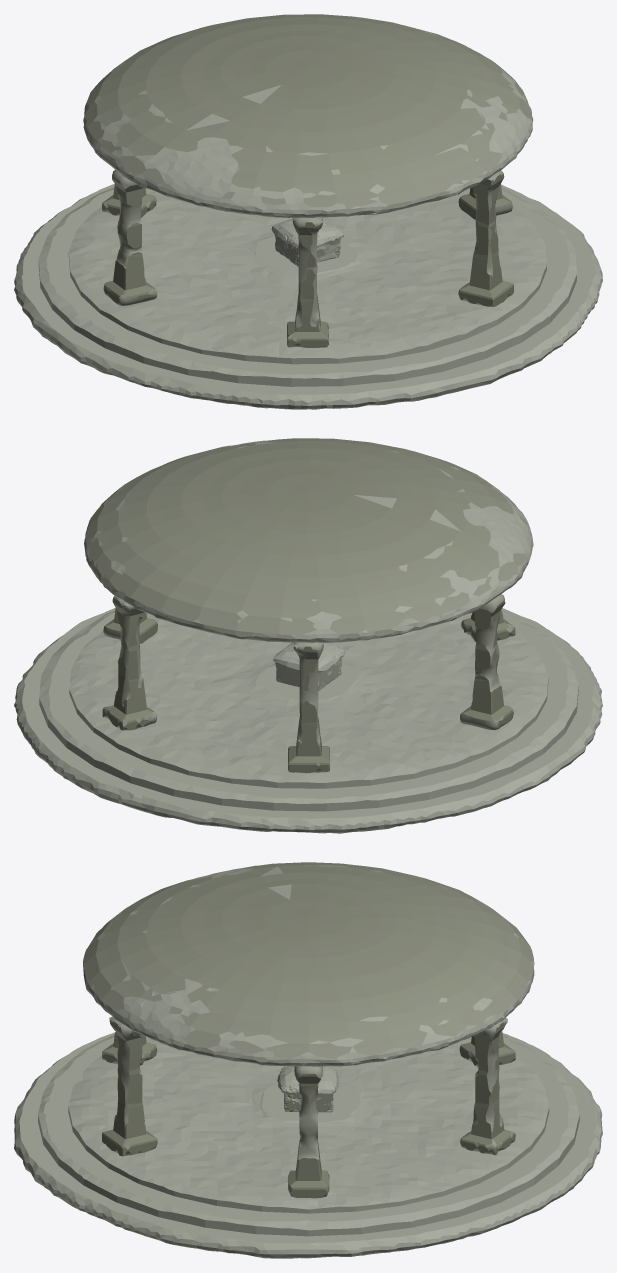
File: Altar Bulat Keropos.fbx
3 renders of one model, top to bottom at view 1: azimuth 30°, elevation 25°; view 2: azimuth 150°, elevation 25°; view 3: azimuth 270°, elevation 25°, orthographic.
Parts seen in each view (by area): view 1: Altar 2 Rusak.001; view 2: Altar 2 Rusak.001; view 3: Altar 2 Rusak.001.
Boxes of the visible parts, x1=… form: Altar 2 Rusak.001: x1=14, y1=14, x2=602, y2=409; Altar 2 Rusak.001: x1=14, y1=438, x2=602, y2=833; Altar 2 Rusak.001: x1=14, y1=862, x2=602, y2=1258.
Size of the model in its own units: 1608 by 667 by 1612.
Materials: 1 (1 with a texture image).
